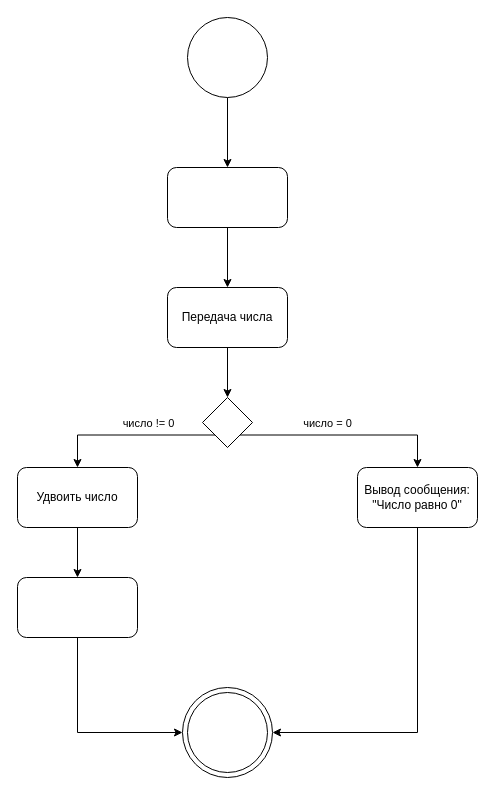
Image size: 495x795. Some labels were removed from this diagram. Here are the shapes that lost their labels. From the top down, the centre of each, then its label:
[227,197]: Ввод числа
[77,607]: Вывести результат на экран
